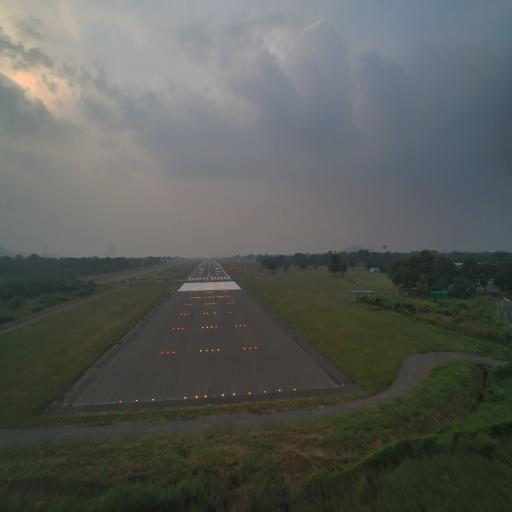off: (167, 395, 171, 402), (212, 392, 216, 398)
on: (134, 398, 139, 404), (172, 349, 176, 356), (151, 397, 155, 403), (183, 394, 187, 400), (195, 394, 199, 400), (203, 393, 207, 399), (221, 392, 225, 398), (232, 391, 236, 397), (278, 386, 281, 394), (160, 350, 164, 356), (204, 348, 208, 354), (118, 399, 122, 404), (248, 390, 251, 396), (199, 348, 202, 354), (211, 347, 214, 353), (217, 347, 220, 353), (249, 344, 252, 350), (262, 390, 266, 394), (254, 346, 258, 350), (243, 346, 246, 351), (293, 388, 296, 392), (167, 350, 169, 355)
